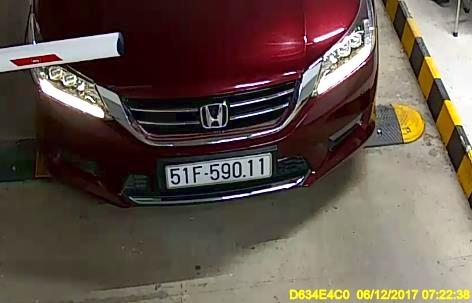plate: (162, 151, 275, 188)
